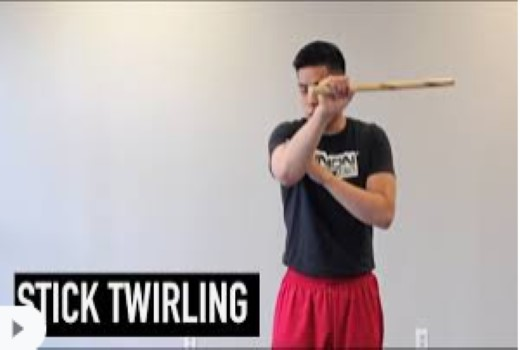baston_e: (317, 74, 448, 98)
baston_v: (299, 78, 318, 99), (443, 72, 461, 94)
